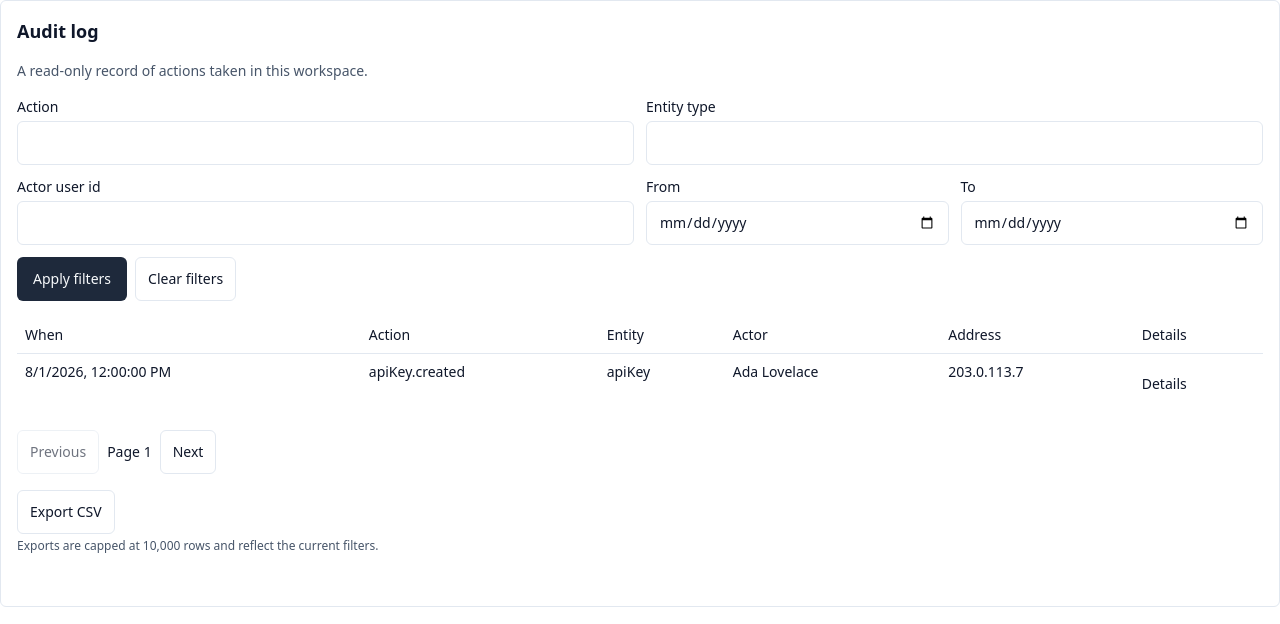
Scenario: AuditLog › moves pages with Next/Prev, and disables Prev on page 1
Expected: the text "apiKey.created" is shown, left=361, top=354, right=599, bottom=414
Expected: the button "Previous" is disabled, left=17, top=430, right=99, bottom=474
Click the button "Next".
click(188, 452)  # box left=160, top=430, right=216, bottom=474
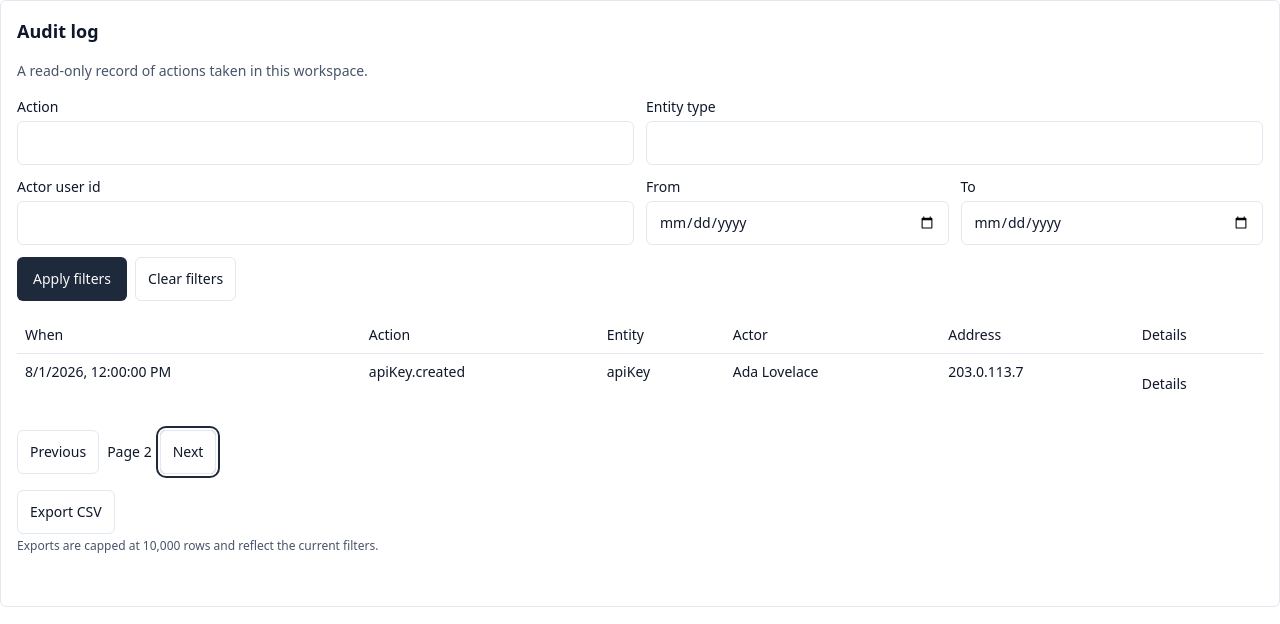
Now the text "Page 2" is shown, box left=107, top=442, right=152, bottom=462
Now the button "Previous" is enabled, box left=17, top=430, right=99, bottom=474
